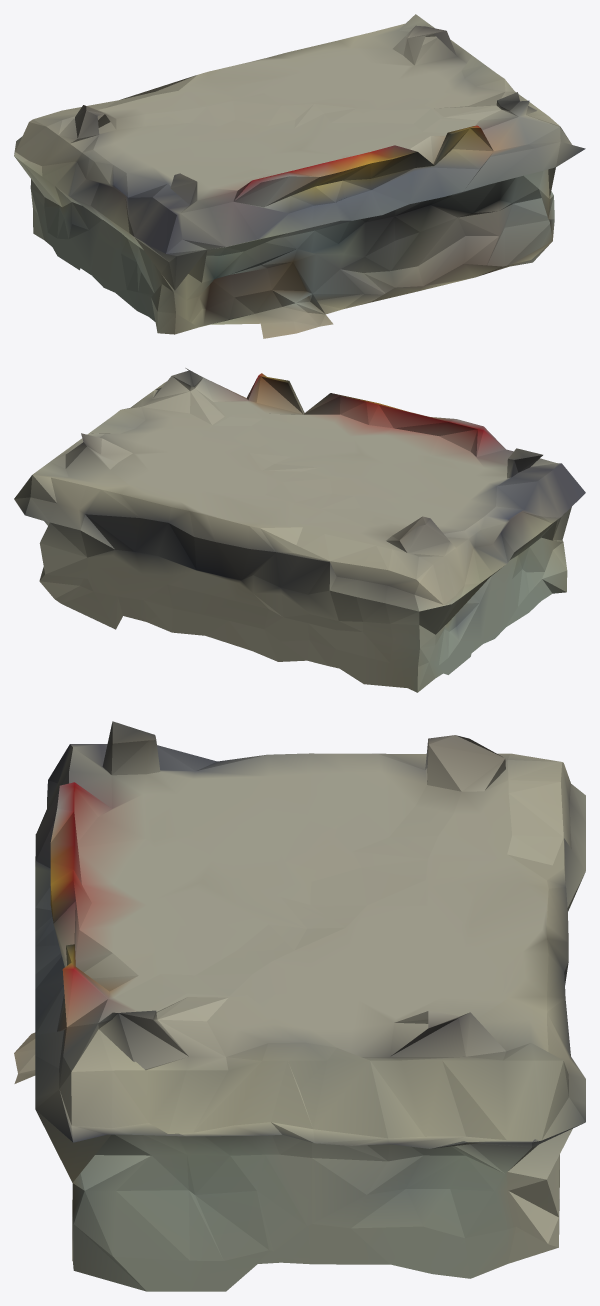
The picture shows the model from 3 angles, top to bottom: view 1: azimuth 30°, elevation 25°; view 2: azimuth 150°, elevation 25°; view 3: azimuth 270°, elevation 25°; orthographic projection. The views are drawn at different scales.
Size of the model in its own units: 12 by 4 by 8.
